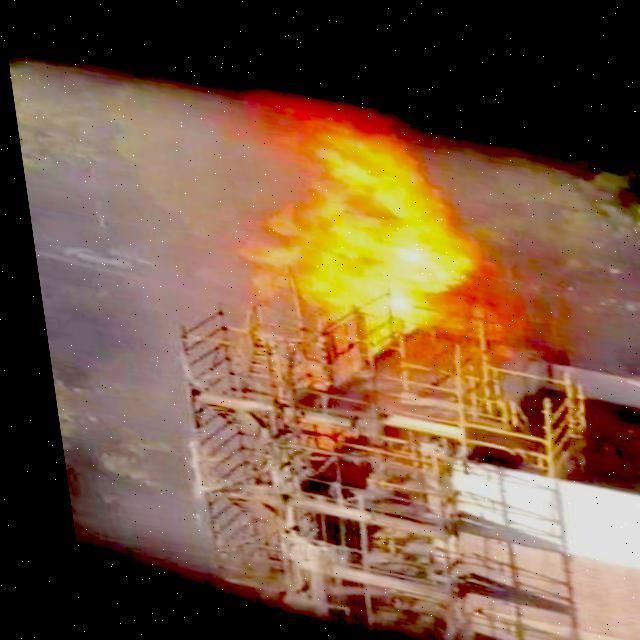Fire: (264, 115, 491, 351)
